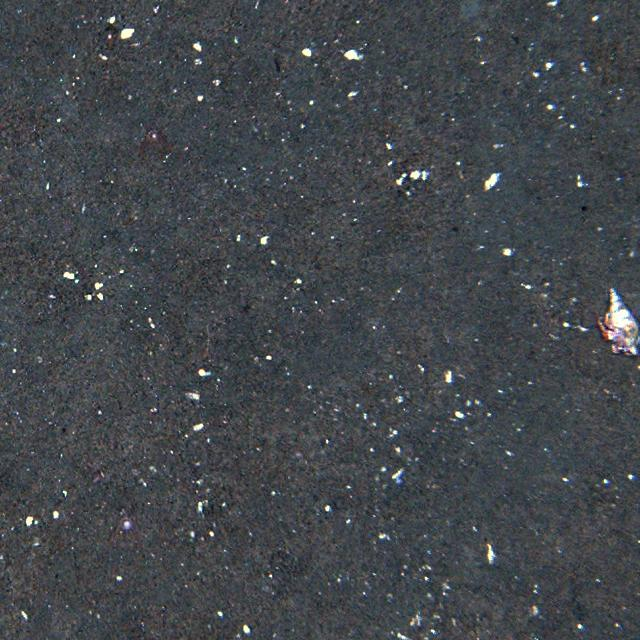crab: (600, 284, 640, 358)
